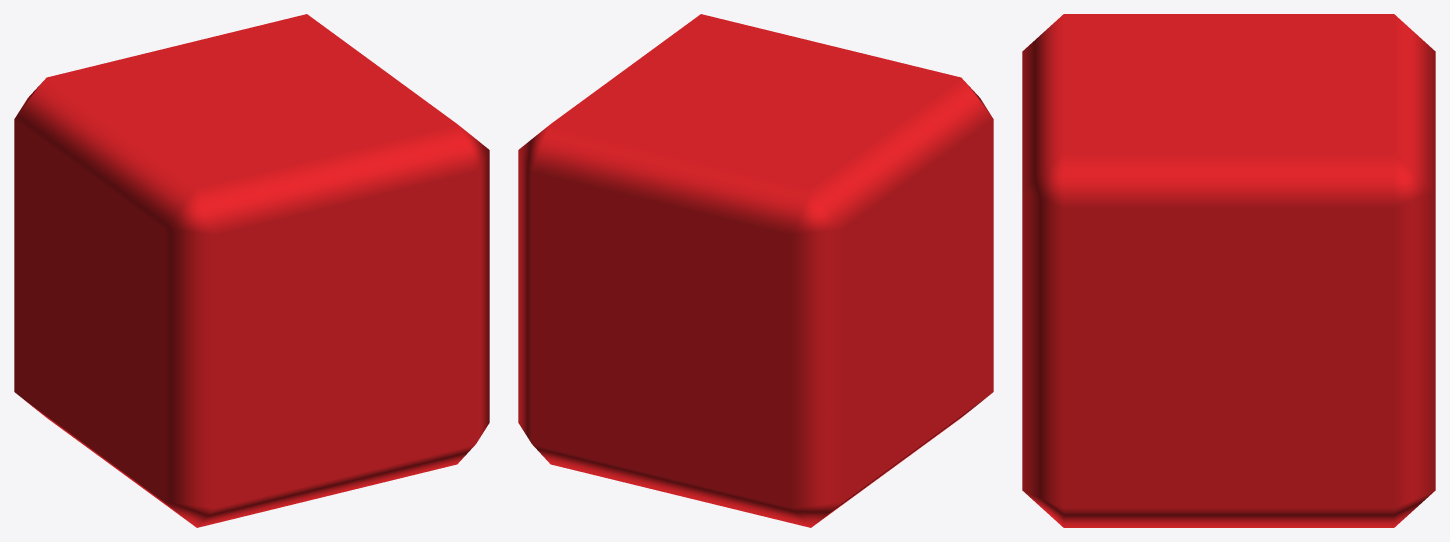
Rendered from object_bouncing_cube.glb.
3 renders of one model, left to right at view 1: azimuth 30°, elevation 25°; view 2: azimuth 150°, elevation 25°; view 3: azimuth 270°, elevation 25°, orthographic. The views are drawn at different scales.
Parts seen in each view (by area): view 1: bouncing_cube; view 2: bouncing_cube; view 3: bouncing_cube.
Boxes of the visible parts, x1,y1,x2,y2 form: bouncing_cube: (14,14,489,527); bouncing_cube: (518,14,993,527); bouncing_cube: (1022,14,1435,527).
Bounding box in the file's own units: 0.1 × 0.1 × 0.1.
